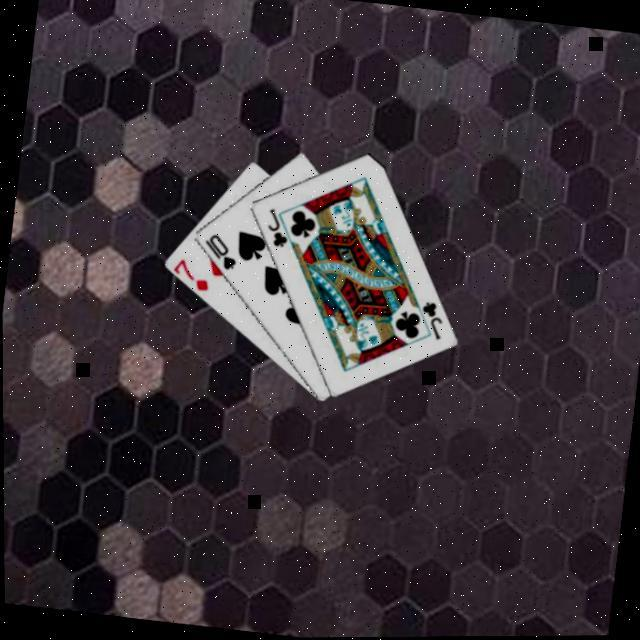10S: (196, 228, 238, 271)
7D: (166, 252, 212, 293)
JC: (259, 202, 291, 249), (412, 296, 444, 342)
